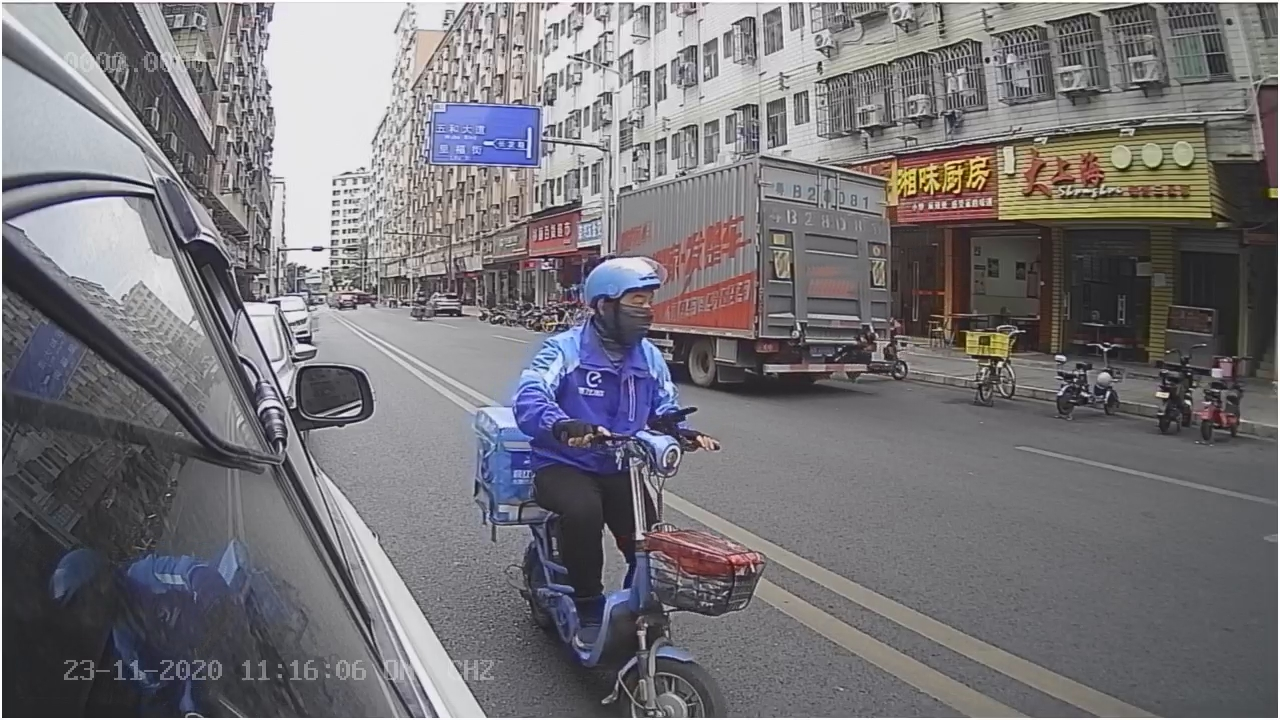person: (505, 251, 712, 423)
